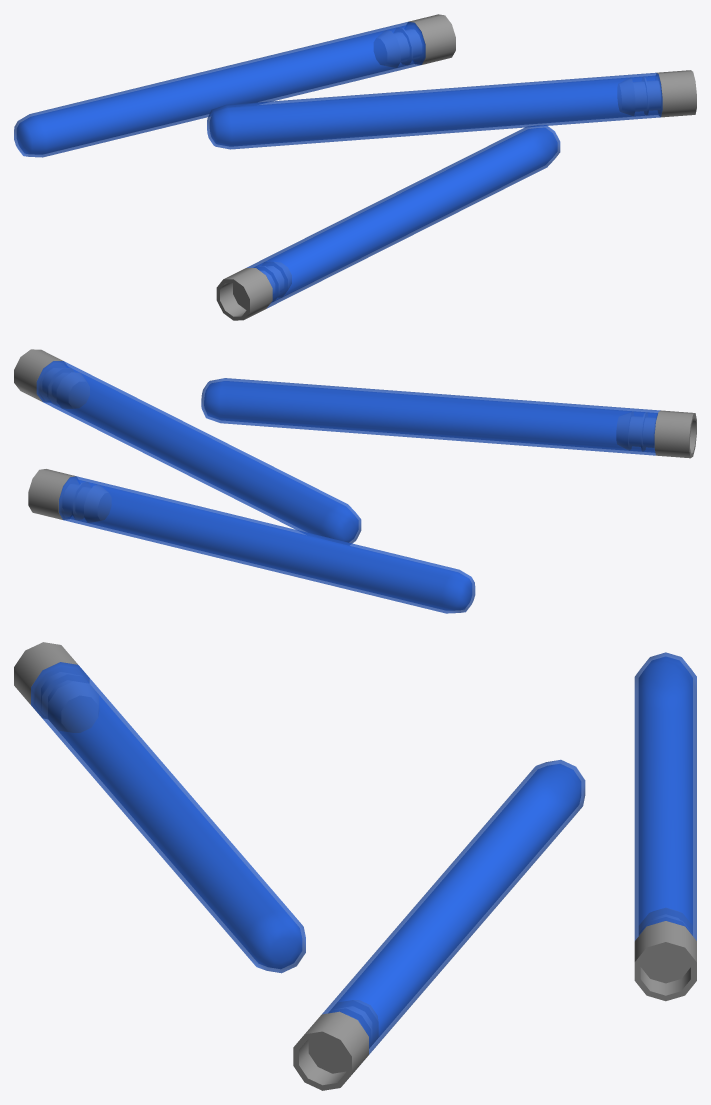
The model's file is SM_Layed_Test_Tube3_LOD0.FBX.
3 renders of one model, top to bottom at view 1: azimuth 30°, elevation 25°; view 2: azimuth 150°, elevation 25°; view 3: azimuth 270°, elevation 25°, orthographic. The views are drawn at different scales.
Parts seen in each view (by area): view 1: SM_Empty_Laying_Test_Tube03; view 2: SM_Empty_Laying_Test_Tube03; view 3: SM_Empty_Laying_Test_Tube03.
Boxes of the visible parts, <box> form: SM_Empty_Laying_Test_Tube03: <box>14,14,696,320</box>; SM_Empty_Laying_Test_Tube03: <box>14,349,696,613</box>; SM_Empty_Laying_Test_Tube03: <box>14,642,696,1090</box>.
Bounding box in the file's own units: 0.2303 × 0.016 × 0.1668.
